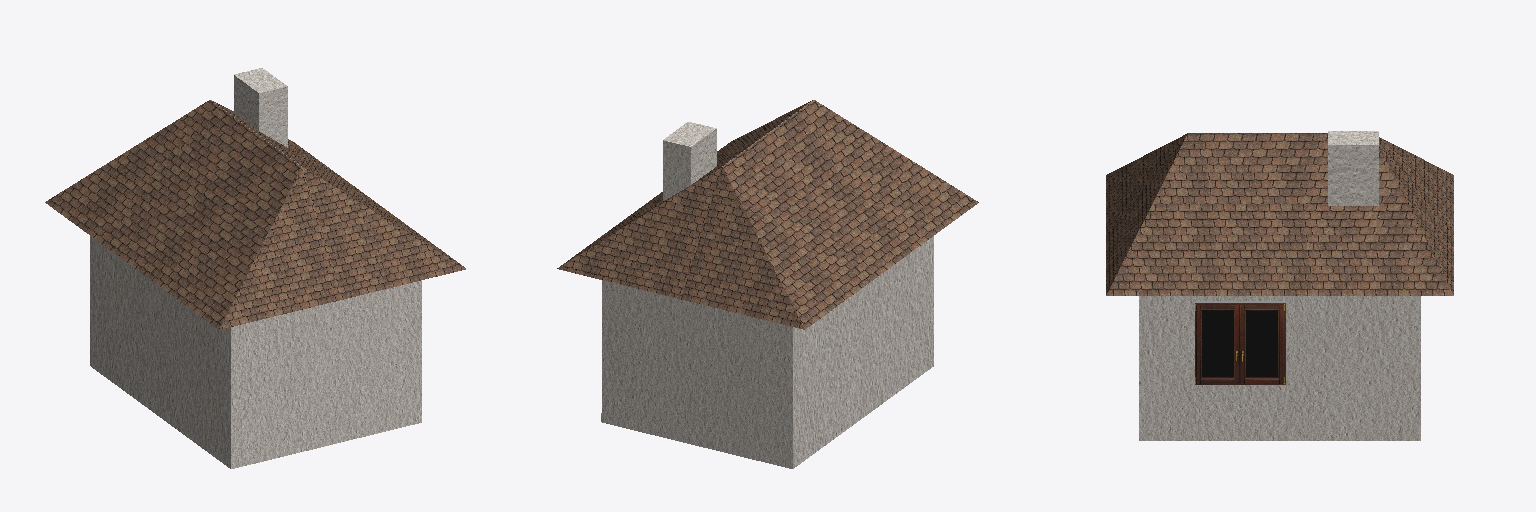
3 views of the same model, side by side, from view 1: azimuth 30°, elevation 25°; view 2: azimuth 150°, elevation 25°; view 3: azimuth 270°, elevation 25° (orthographic).
Parts seen in each view (by area): view 1: Cube; view 2: Cube; view 3: Cube.
Boxes of the visible parts, x1,y1,x2,y2 form: Cube: [45, 68, 465, 468]; Cube: [557, 100, 978, 468]; Cube: [1106, 131, 1453, 440].
Size of the model in its own units: 2.6 by 2.77 by 3.16.
7 materials, 1 textured.